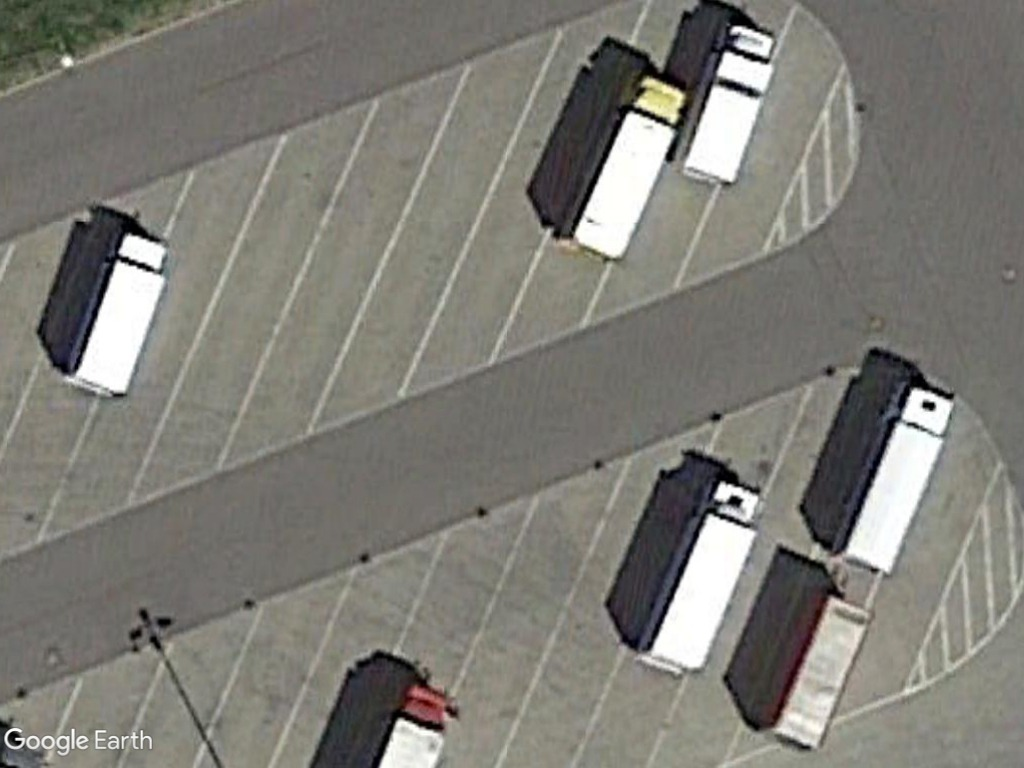truck: (635, 478, 768, 680), (831, 380, 961, 579), (566, 71, 689, 261), (59, 226, 176, 403), (676, 18, 783, 186)
